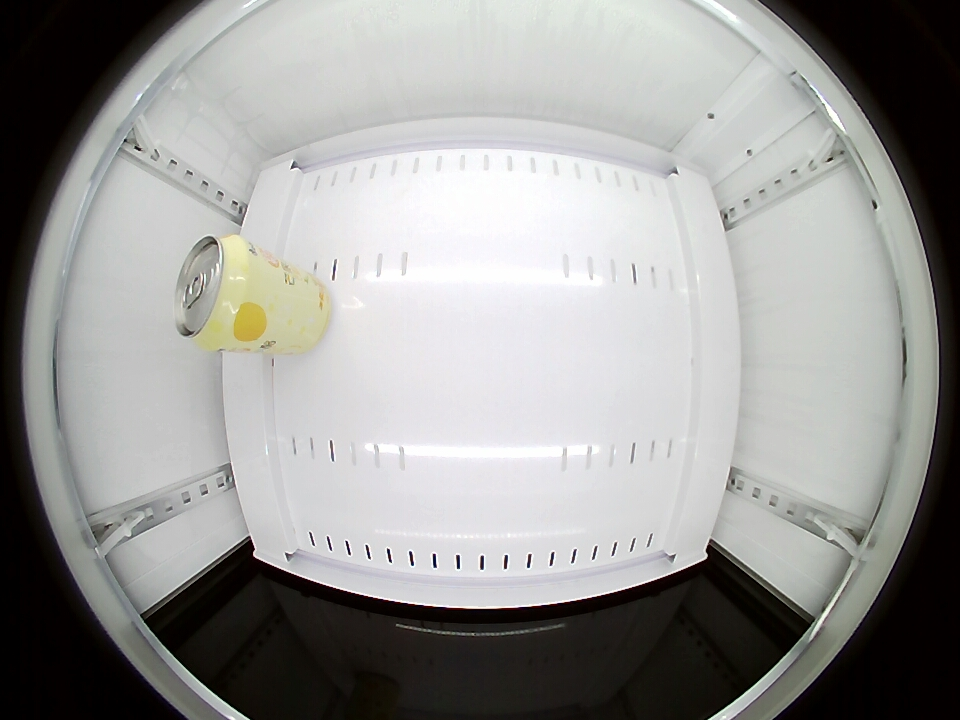mangguoxiaolao: (174, 234, 261, 351)
